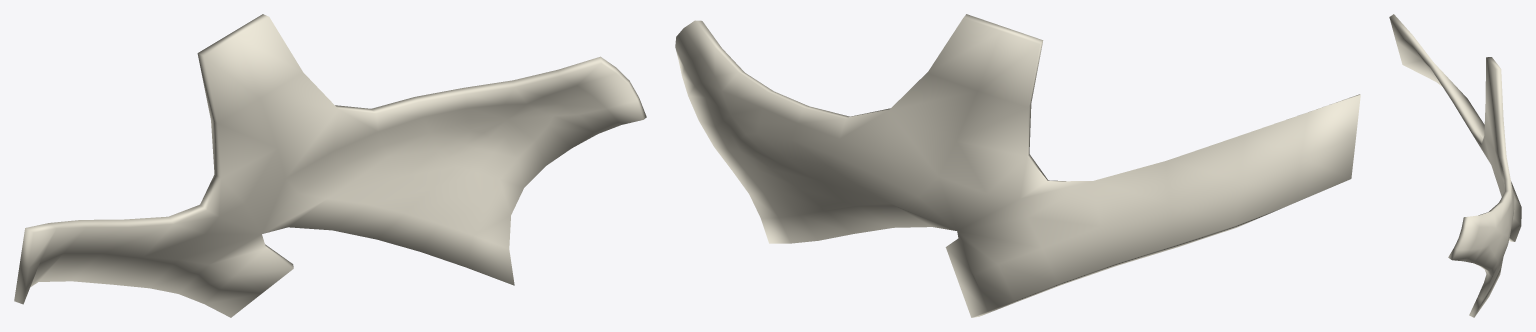
3 renders of one model, left to right at view 1: azimuth 30°, elevation 25°; view 2: azimuth 150°, elevation 25°; view 3: azimuth 270°, elevation 25°, orthographic. The views are drawn at different scales.
Visible parts, largest first — view 1: ZA_c70058b9e5fc7a4a; view 2: ZA_c70058b9e5fc7a4a; view 3: ZA_c70058b9e5fc7a4a.
Boxes of the visible parts, x1,y1,x2,y2 form: ZA_c70058b9e5fc7a4a: (14, 14, 646, 317); ZA_c70058b9e5fc7a4a: (675, 14, 1360, 317); ZA_c70058b9e5fc7a4a: (1389, 14, 1521, 317).
Bounding box in the file's own units: 0.0389 × 0.0172 × 0.0112.
